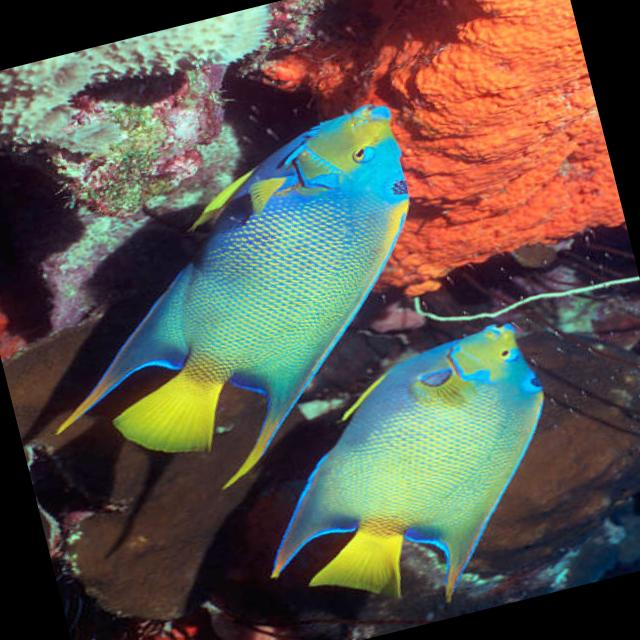AngelFish: (2, 102, 472, 522), (218, 316, 585, 640)
